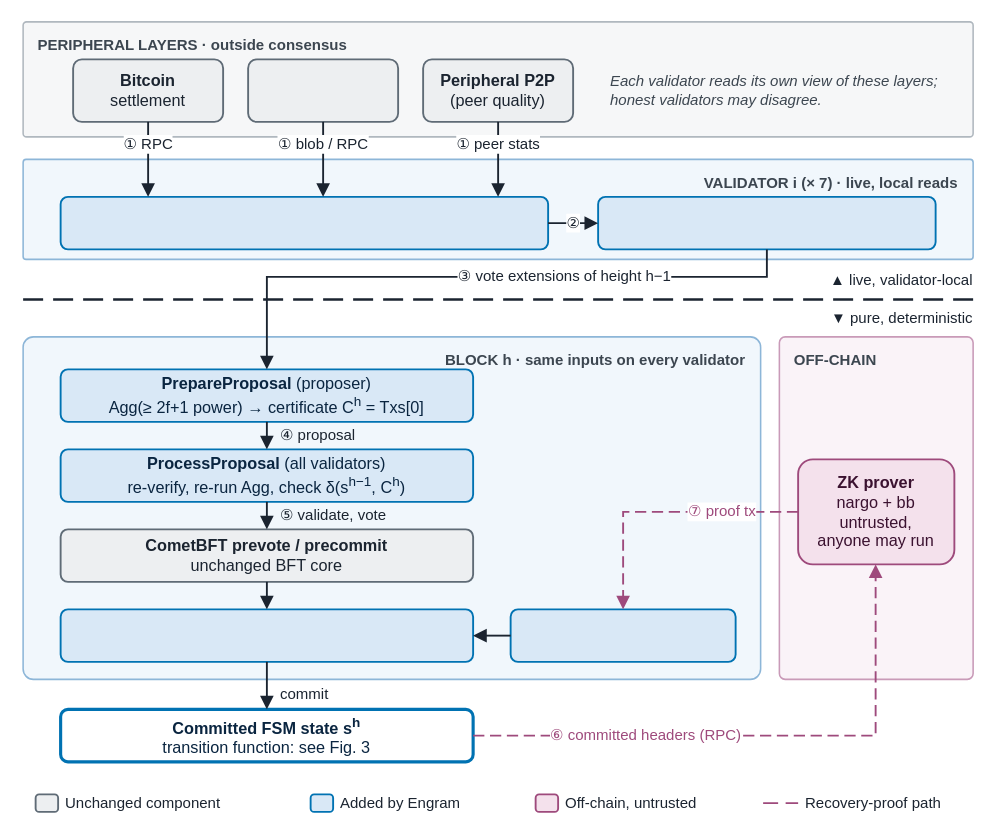
The diagram is 1001 pixels wide and 836 high, and some of its shapes have lost their labels. Each missing label, with the centre of its shape:
"Celestia (DA)" goes at pixel 322 90.
"ExtendVote signed, height-bound observation" goes at pixel 766 222.
"Local sensors BTC gap · anchor re-verification · DA gap · P2P profile" goes at pixel 303 222.
"PreBlocker CommitFSMTransition + circuit breaker" goes at pixel 266 635.
"SubmitRecoveryProof verify UltraHonk proof" goes at pixel 622 635.
